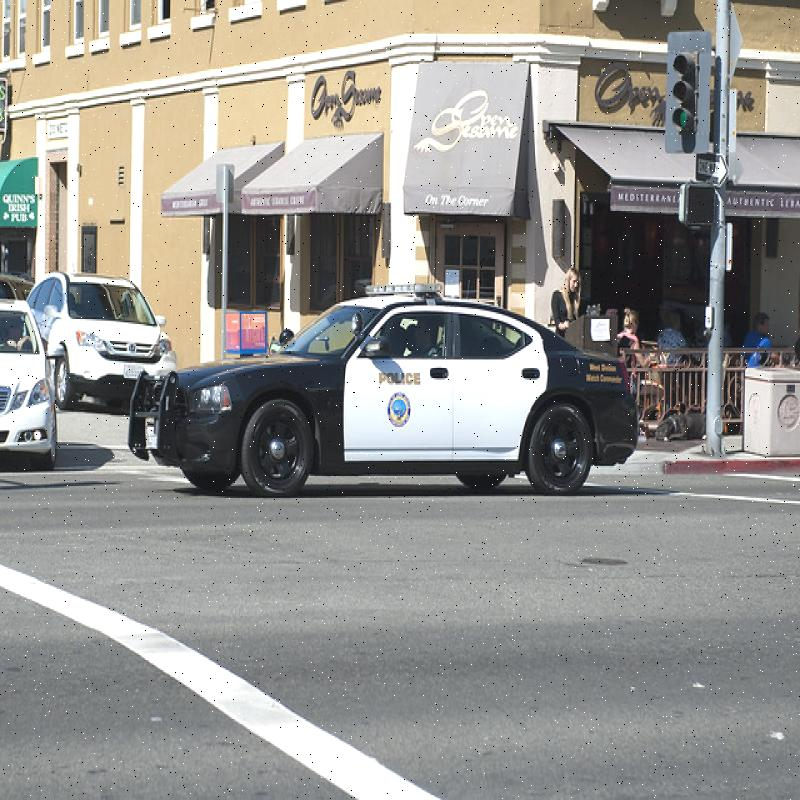AmbulanceSiren: (345, 269, 452, 304)
